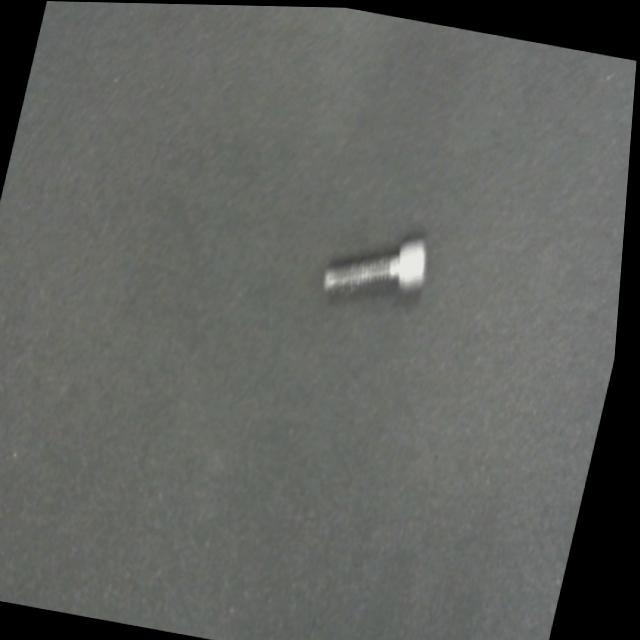SocketHeadCapScrew: (323, 218, 440, 310)
